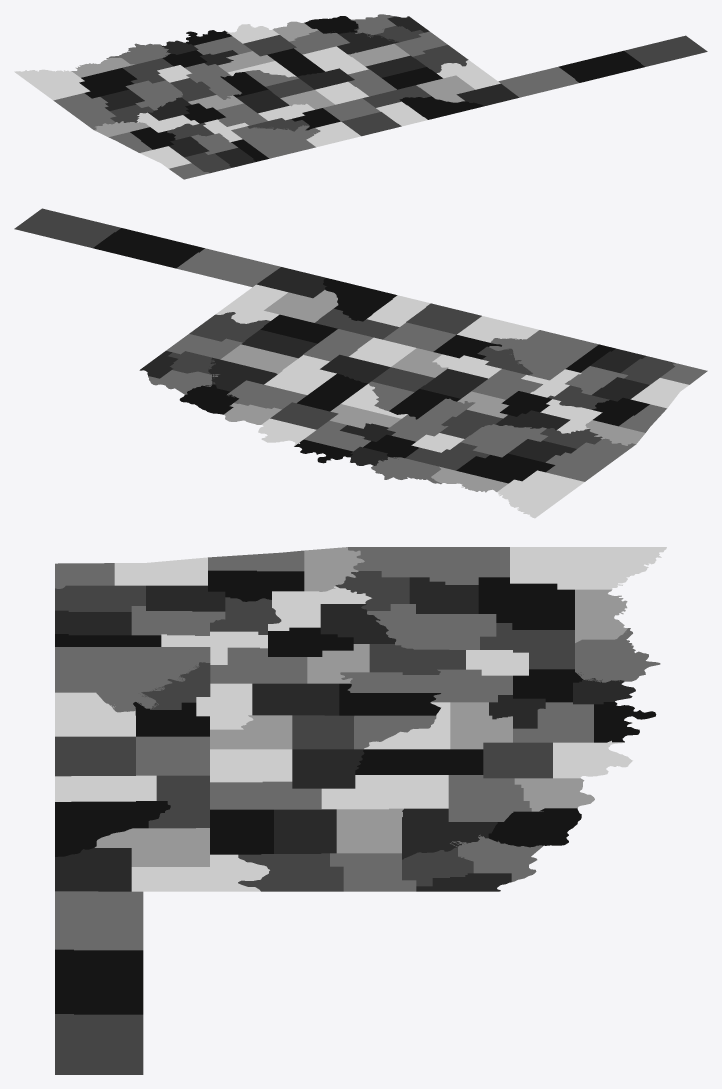
The model's file is Oklahoma_Counties_2D.fbx.
The picture shows the model from 3 angles, top to bottom: view 1: azimuth 30°, elevation 25°; view 2: azimuth 150°, elevation 25°; view 3: azimuth 270°, elevation 25°; orthographic projection. The views are drawn at different scales.
Visible parts, largest first — view 1: OK_Osage_County_2D, OK_Texas_County_2D, OK_McCurtain_County_2D, OK_Cimarron_County_2D, OK_Beaver_County_2D, OK_LeFlore_County_2D, OK_Pushmataha_County_2D, OK_Woods_County_2D, OK_Pittsburg_County_2D, OK_Caddo_County_2D, OK_Ellis_County_2D, OK_Woodward_County_2D (+65 smaller); view 2: OK_Osage_County_2D, OK_Texas_County_2D, OK_McCurtain_County_2D, OK_Cimarron_County_2D, OK_Beaver_County_2D, OK_LeFlore_County_2D, OK_Pushmataha_County_2D, OK_Woods_County_2D, OK_Pittsburg_County_2D, OK_Caddo_County_2D, OK_Ellis_County_2D, OK_Woodward_County_2D (+65 smaller); view 3: OK_Osage_County_2D, OK_Texas_County_2D, OK_McCurtain_County_2D, OK_Cimarron_County_2D, OK_Beaver_County_2D, OK_LeFlore_County_2D, OK_Pushmataha_County_2D, OK_Woods_County_2D, OK_Pittsburg_County_2D, OK_Caddo_County_2D, OK_Ellis_County_2D, OK_Woodward_County_2D (+65 smaller).
Boxes of the visible parts, <box> form: OK_Osage_County_2D: <box>231,125,320,158</box>; OK_Texas_County_2D: <box>558,50,644,82</box>; OK_McCurtain_County_2D: <box>14,69,90,100</box>; OK_Cimarron_County_2D: <box>624,35,707,66</box>; OK_Beaver_County_2D: <box>498,67,578,97</box>; OK_LeFlore_County_2D: <box>53,93,116,129</box>; OK_Pushmataha_County_2D: <box>79,68,137,98</box>; OK_Woods_County_2D: <box>399,96,483,119</box>; OK_Pittsburg_County_2D: <box>125,80,182,110</box>; OK_Caddo_County_2D: <box>302,46,368,74</box>; OK_Ellis_County_2D: <box>437,60,500,89</box>; OK_Woodward_County_2D: <box>416,75,475,102</box>; OK_Osage_County_2D: <box>489,330,598,380</box>; OK_Texas_County_2D: <box>93,228,204,268</box>; OK_McCurtain_County_2D: <box>497,470,584,518</box>; OK_Cimarron_County_2D: <box>14,208,120,247</box>; OK_Beaver_County_2D: <box>176,248,280,287</box>; OK_LeFlore_County_2D: <box>545,438,635,481</box>; OK_Pushmataha_County_2D: <box>456,453,555,483</box>; OK_Woods_County_2D: <box>323,278,397,321</box>; OK_Pittsburg_County_2D: <box>461,424,547,457</box>; OK_Caddo_County_2D: <box>264,355,336,395</box>; OK_Ellis_County_2D: <box>215,284,287,323</box>; OK_Woodward_County_2D: <box>264,290,338,322</box>; OK_Osage_County_2D: <box>55,647,210,712</box>; OK_Texas_County_2D: <box>55,949,143,1014</box>; OK_McCurtain_County_2D: <box>510,547,666,589</box>; OK_Cimarron_County_2D: <box>55,1014,143,1074</box>; OK_Beaver_County_2D: <box>55,891,143,950</box>; OK_LeFlore_County_2D: <box>348,547,509,584</box>; OK_Pushmataha_County_2D: <box>478,577,574,629</box>; OK_Woods_County_2D: <box>55,801,170,856</box>; OK_Pittsburg_County_2D: <box>367,604,496,649</box>; OK_Caddo_County_2D: <box>321,775,448,809</box>; OK_Ellis_County_2D: <box>131,854,269,891</box>; OK_Woodward_County_2D: <box>94,828,209,866</box>.
Bounding box in the file's own units: 812 × 0 × 398.
